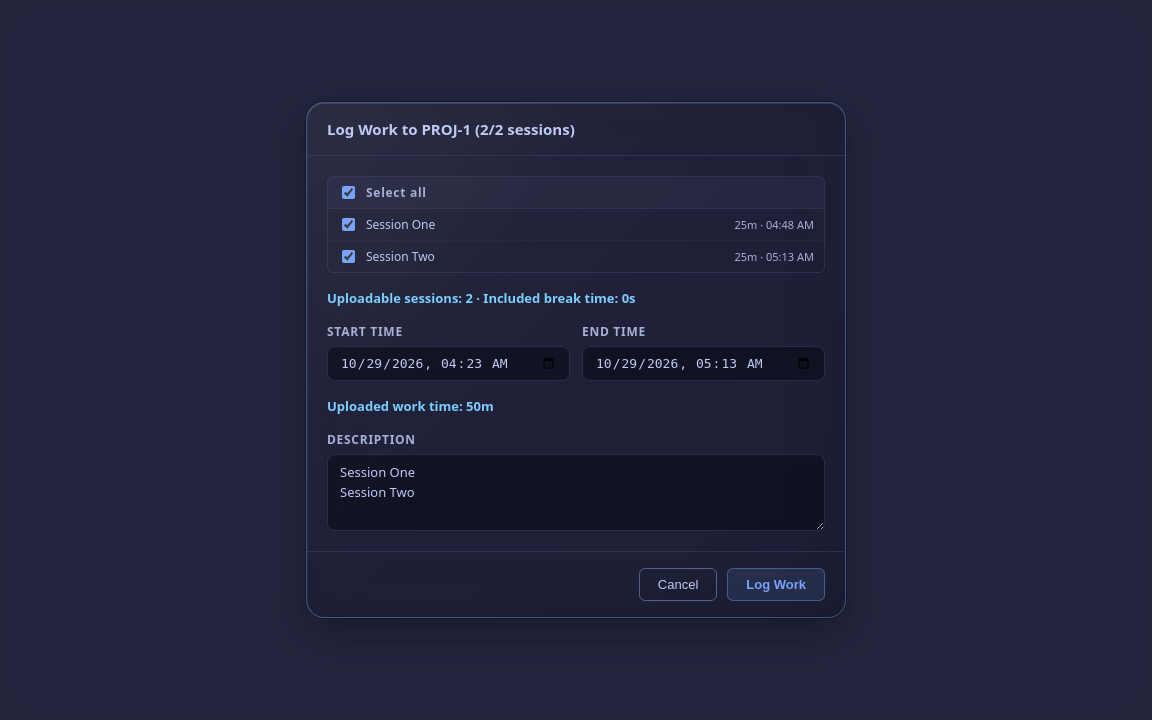
WorklogConfirmDialog — bulk session mode › deselecting a session reduces count in title to '1/2 sessions'
expect the text "Session One" is shown: met, box x1=366 y1=216 x2=435 y2=233
Click the checkbox labelled "Session One 25m · 04:48 AM" at (348, 225), box x1=342 y1=218 x2=355 y2=231
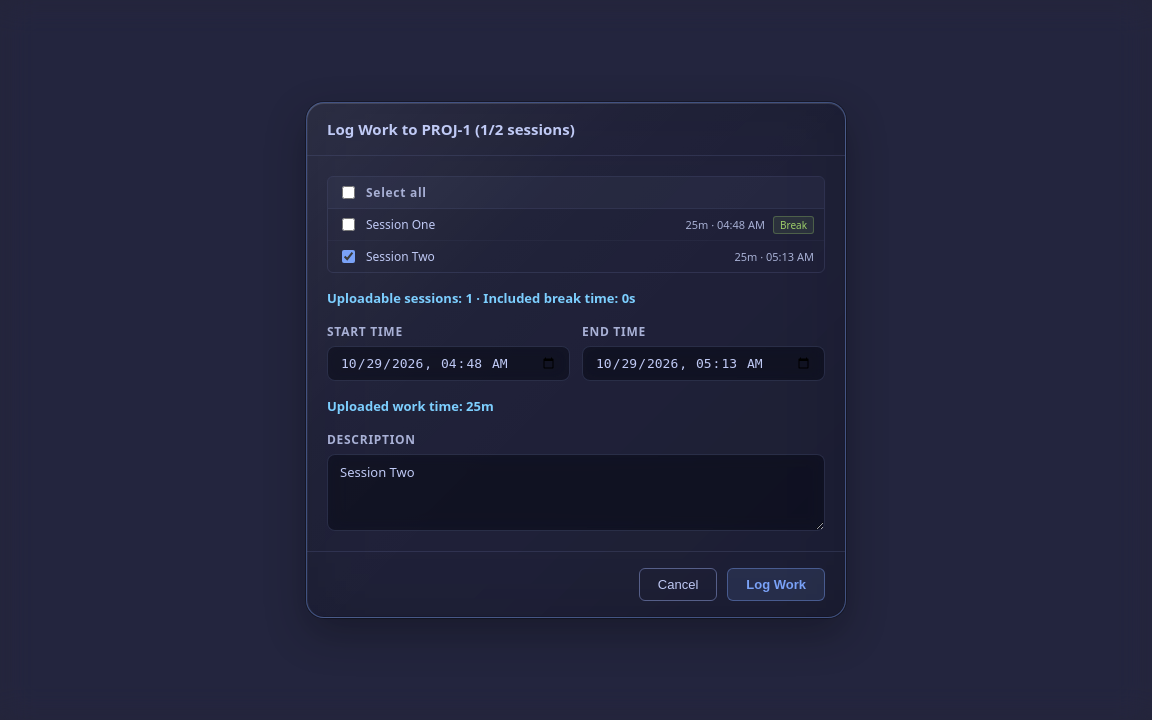
expect the heading "Log Work to PROJ-1 (1/2 sessions)" is shown: met, box x1=327 y1=119 x2=575 y2=139
